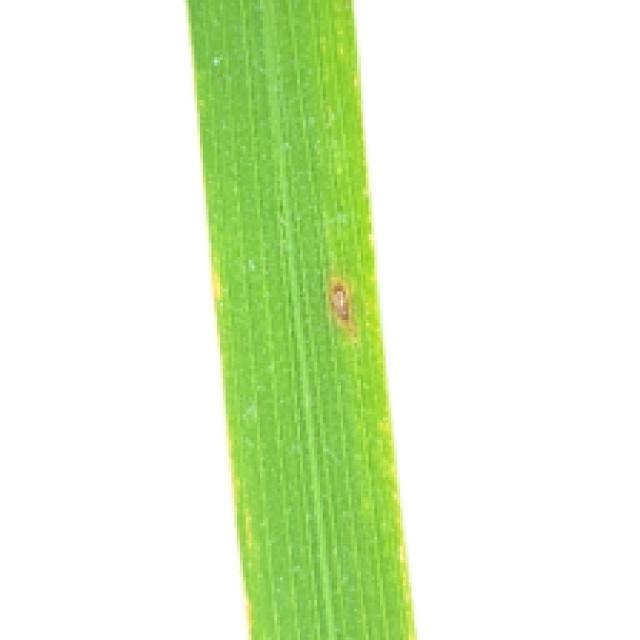Rice___Rice_Blast: (183, 0, 420, 637)
